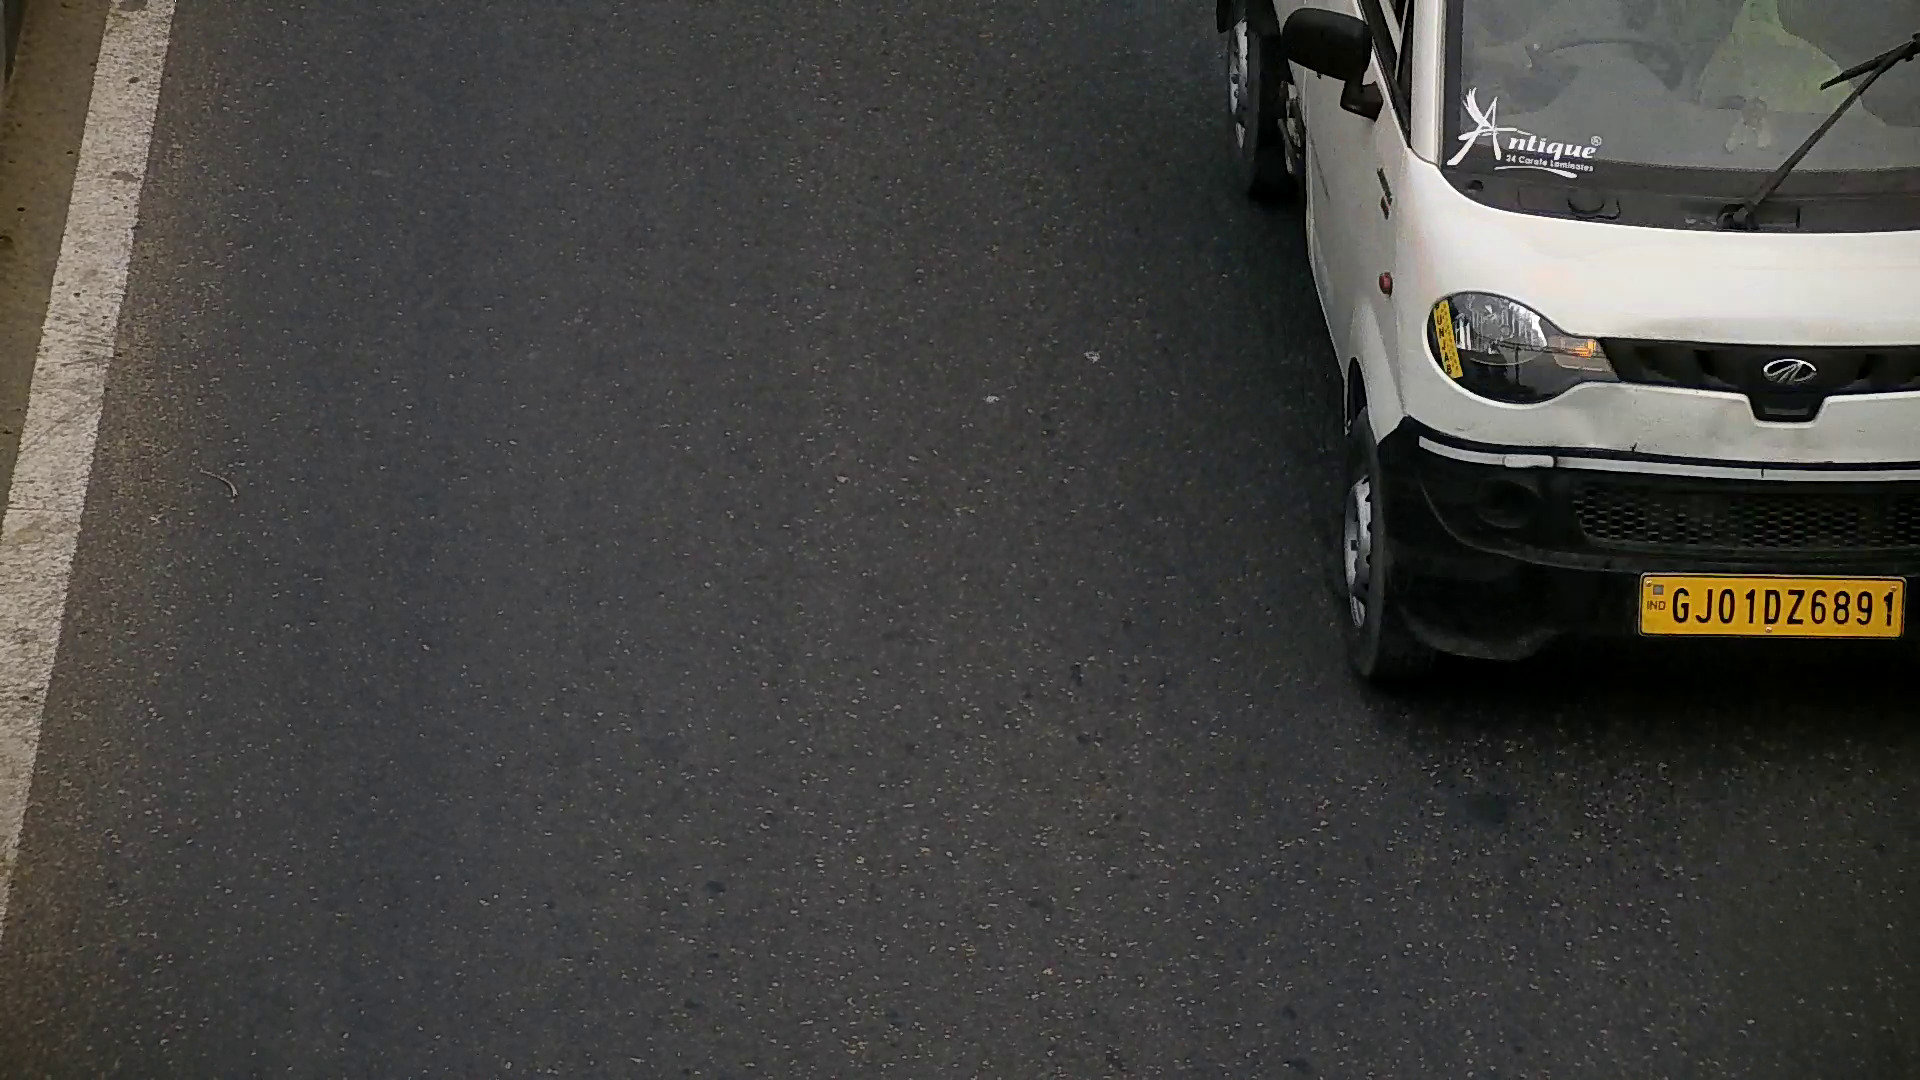numberplate: (1630, 564, 1908, 640)
